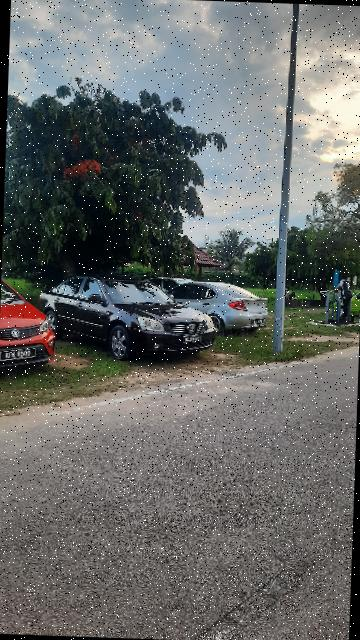License_Plate: (1, 347, 46, 366), (184, 334, 205, 345), (252, 318, 267, 327)
car: (38, 273, 220, 364), (171, 277, 271, 337), (1, 277, 58, 381)
